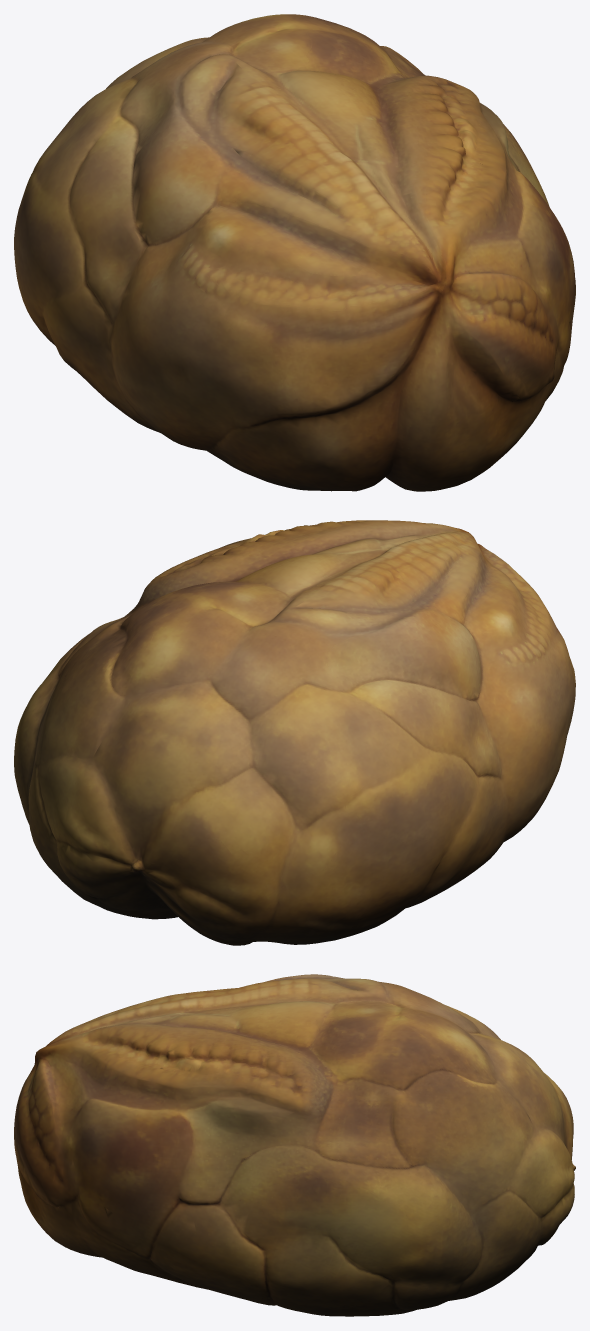
The picture shows the model from 3 angles, top to bottom: view 1: azimuth 30°, elevation 25°; view 2: azimuth 150°, elevation 25°; view 3: azimuth 270°, elevation 25°; orthographic projection. The views are drawn at different scales.
Parts seen in each view (by area): view 1: world; view 2: world; view 3: world.
Boxes of the visible parts, x1,y1,x2,y2 form: world: (14,14,575,491); world: (14,520,575,945); world: (14,974,575,1316).
Size of the model in its own units: 0.0149 by 0.00988 by 0.0197.
Materials: 1 (1 with a texture image).
